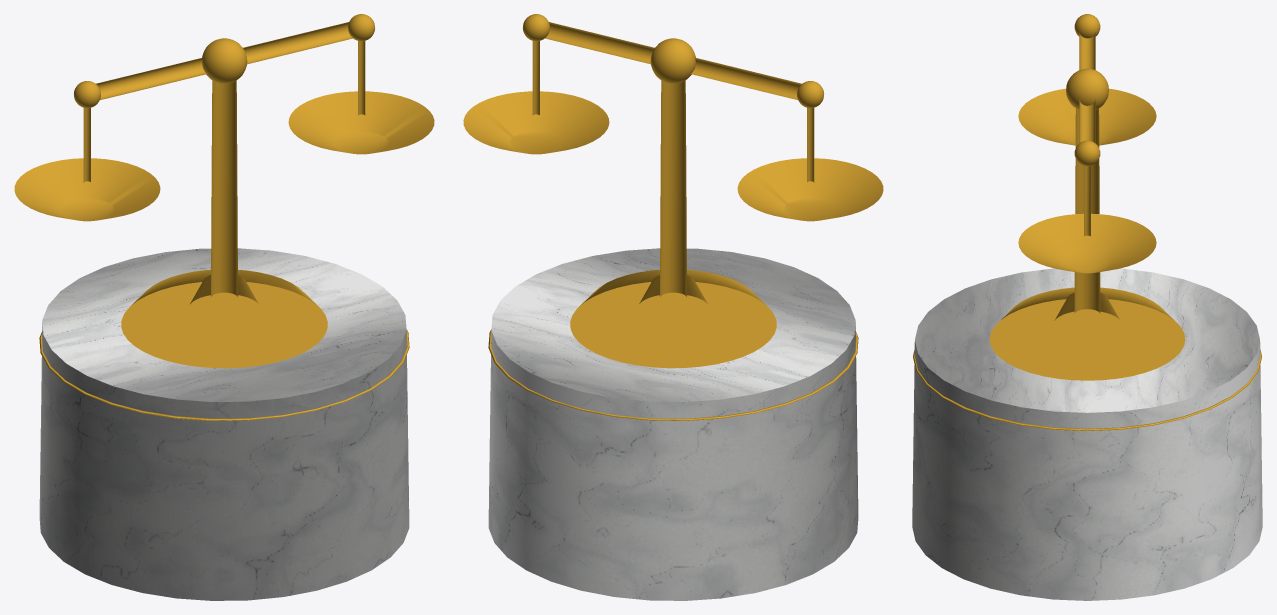
Rendered from economics.glb.
3 views of the same model, side by side, from view 1: azimuth 30°, elevation 25°; view 2: azimuth 150°, elevation 25°; view 3: azimuth 270°, elevation 25° (orthographic). The views are drawn at different scales.
Parts seen in each view (by area): view 1: marble_column, economics, gold_inlay_ring; view 2: marble_column, economics, gold_inlay_ring; view 3: marble_column, economics, gold_inlay_ring.
Boxes of the visible parts, bbox=[...] form: marble_column: bbox=[39, 248, 409, 600]; economics: bbox=[14, 14, 434, 368]; gold_inlay_ring: bbox=[39, 329, 409, 420]; marble_column: bbox=[488, 248, 858, 600]; economics: bbox=[463, 14, 883, 368]; gold_inlay_ring: bbox=[488, 329, 858, 420]; marble_column: bbox=[912, 268, 1262, 600]; economics: bbox=[989, 14, 1185, 380]; gold_inlay_ring: bbox=[913, 349, 1261, 431].
Size of what is drawn, in the model's own units: 0.537 by 0.6178 by 0.4302.
3 materials, 1 textured.
